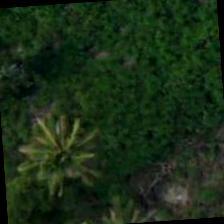Kelapa_Sawit: (14, 118, 110, 214)
